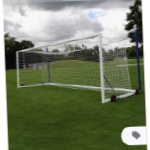goals: (14, 32, 139, 108)
